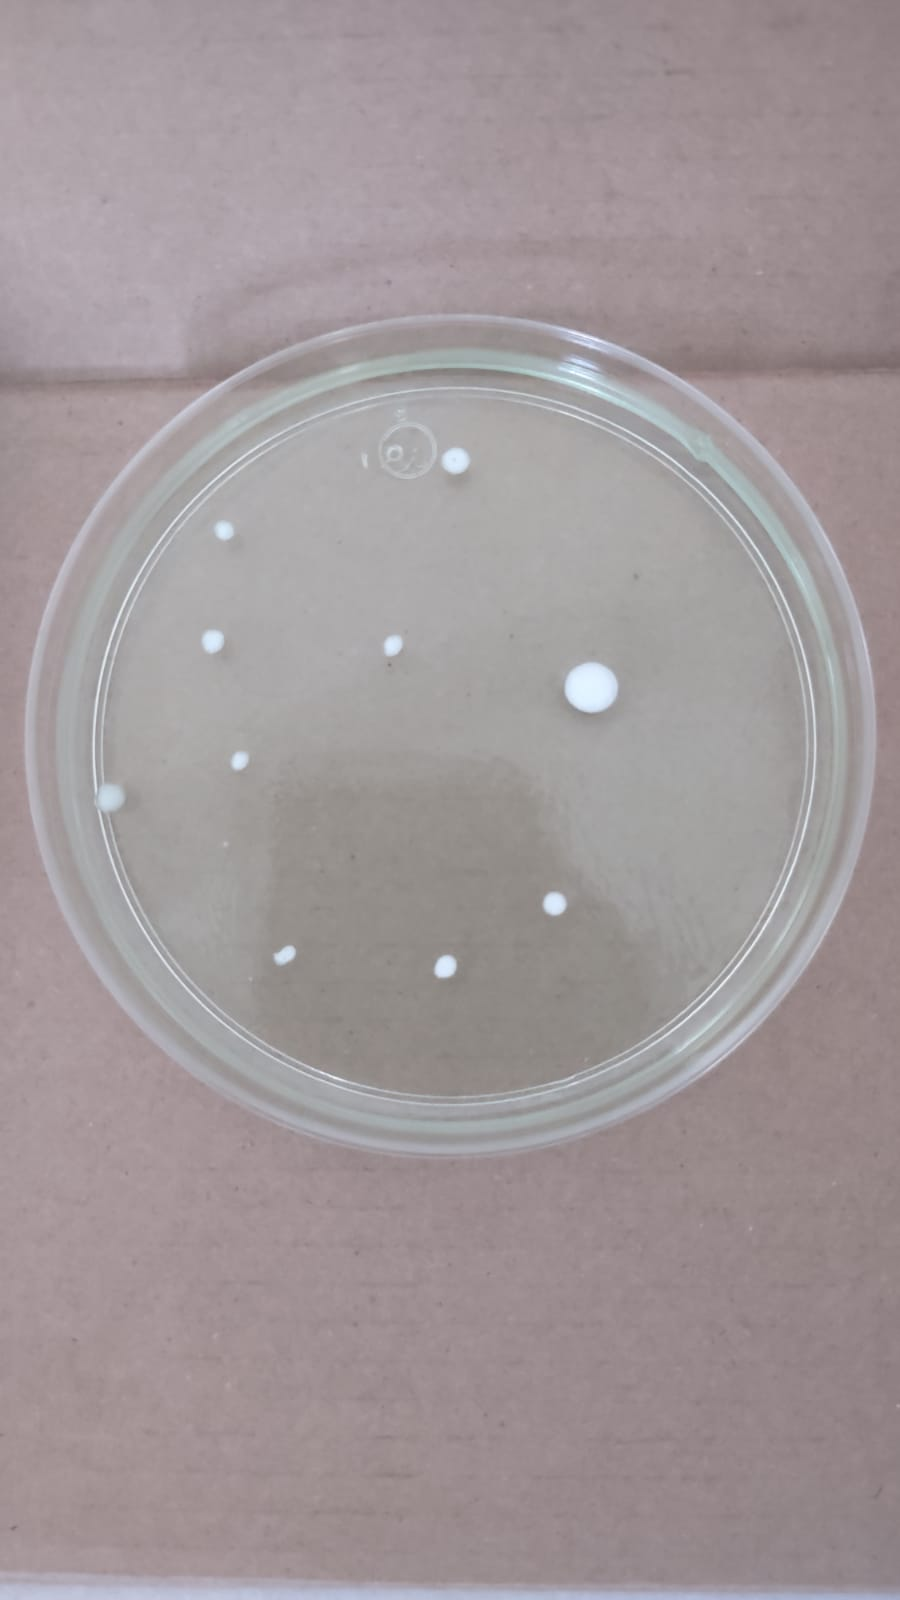Colonia: (565, 655, 621, 712), (538, 878, 575, 921), (427, 946, 462, 982), (198, 622, 231, 658), (437, 441, 473, 474), (269, 935, 300, 970), (95, 782, 127, 813), (380, 632, 409, 659), (226, 749, 256, 773), (210, 518, 237, 542)
